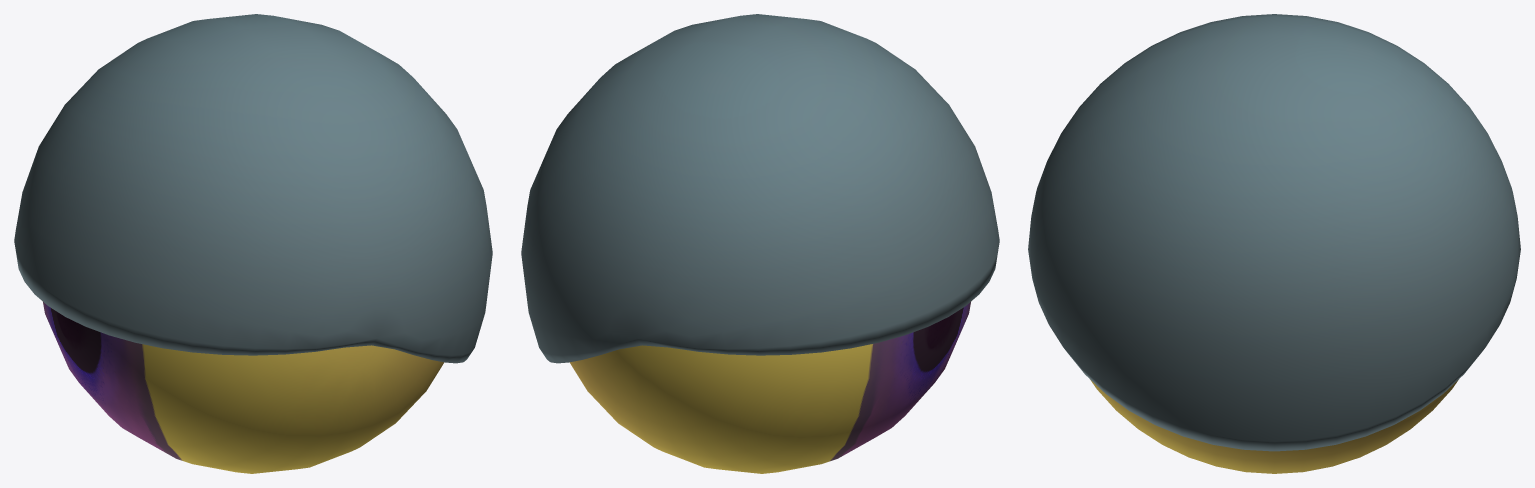
Rendered from willowtreeeye.fbx.
The picture shows the model from 3 angles, left to right: view 1: azimuth 30°, elevation 25°; view 2: azimuth 150°, elevation 25°; view 3: azimuth 270°, elevation 25°; orthographic projection.
Parts seen in each view (by area): view 1: WillowEyeLid, WillowEyeBall; view 2: WillowEyeLid, WillowEyeBall; view 3: WillowEyeLid, WillowEyeBall.
Boxes of the visible parts, <box> form: WillowEyeLid: <box>14,14,492,363</box>; WillowEyeBall: <box>43,302,444,473</box>; WillowEyeLid: <box>521,14,999,363</box>; WillowEyeBall: <box>569,302,970,473</box>; WillowEyeLid: <box>1028,14,1520,451</box>; WillowEyeBall: <box>1090,379,1458,473</box>.
Size of the model in its own units: 84.53 by 81.56 by 86.95.
Materials: 1 (1 with a texture image).
